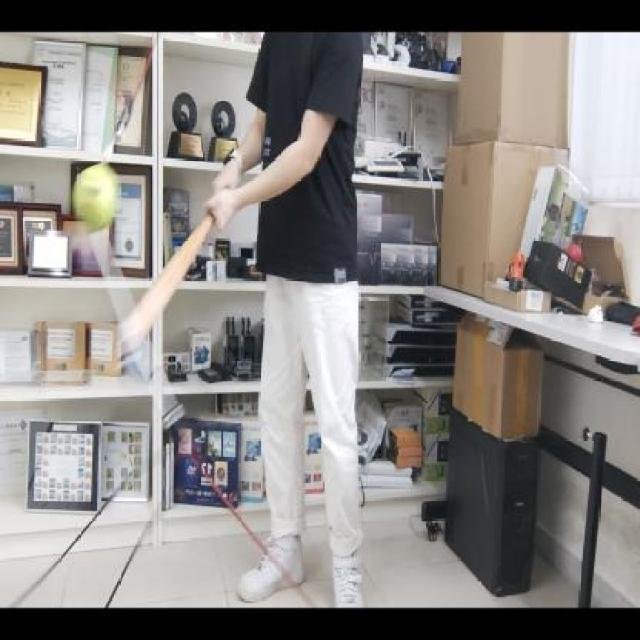baseball: (68, 162, 124, 229)
